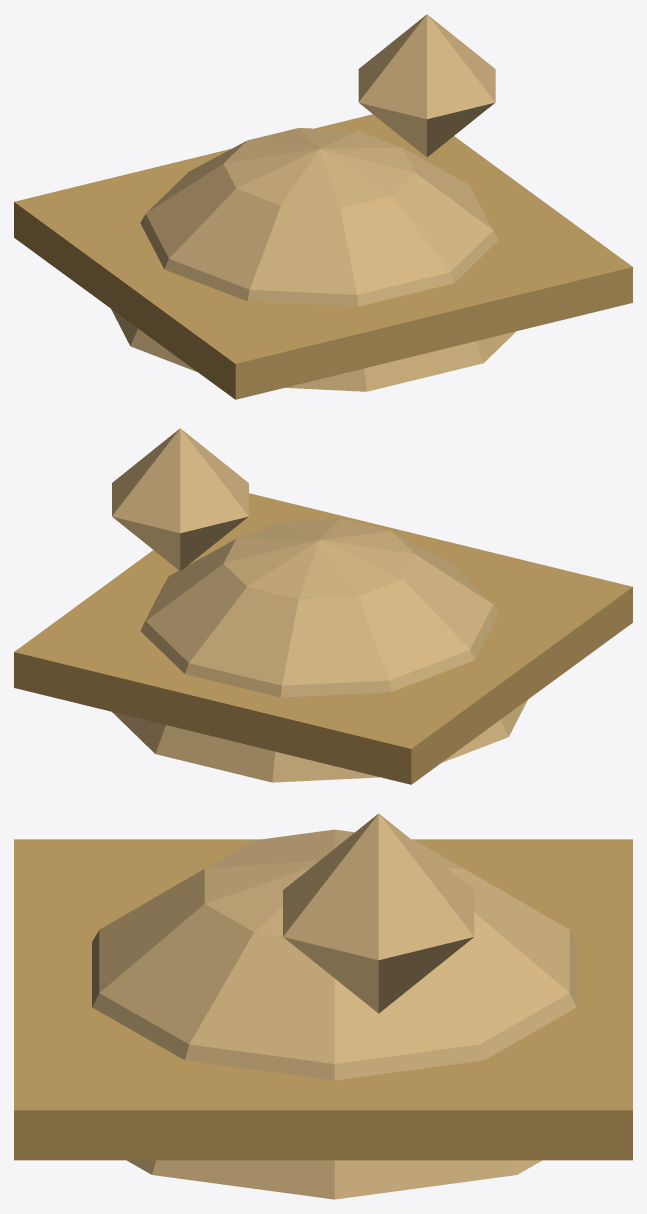
File: av_hair_wrap.glb
3 renders of one model, top to bottom at view 1: azimuth 30°, elevation 25°; view 2: azimuth 150°, elevation 25°; view 3: azimuth 270°, elevation 25°, orthographic. The views are drawn at different scales.
Bounding box in the file's own units: 0.58 × 0.3407 × 0.56.
